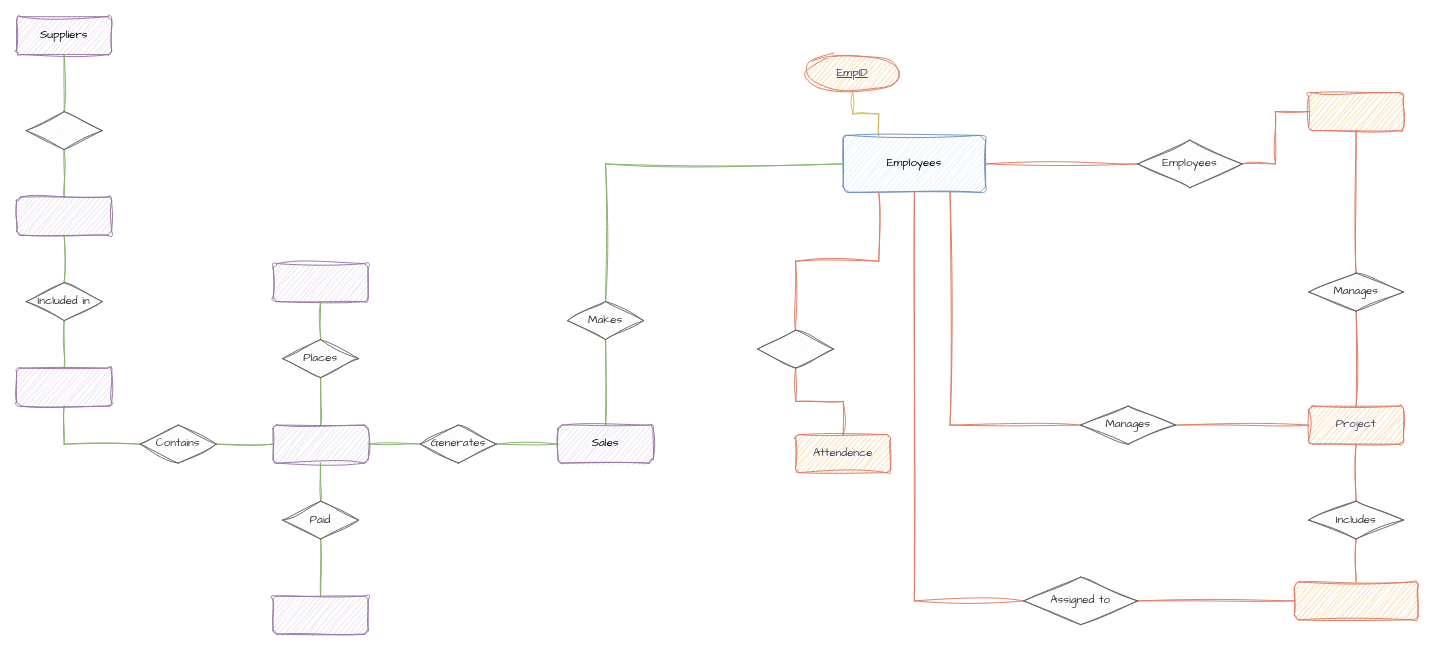
The diagram is 1435 pixels wide and 651 high, and some of its shapes have lost their labels. Here are the shapes that lost their labels. From the top down, the centre of each, then its label:
At point (63, 130): "Supply".
At point (1356, 111): "Dept".
At point (64, 215): "Products".
At point (320, 282): "Customers".
At point (795, 348): "Has".
At point (64, 386): "Order_Items".
At point (320, 443): "Orders".
At point (320, 614): "Entity".
At point (1355, 600): "Employee_Projects".
